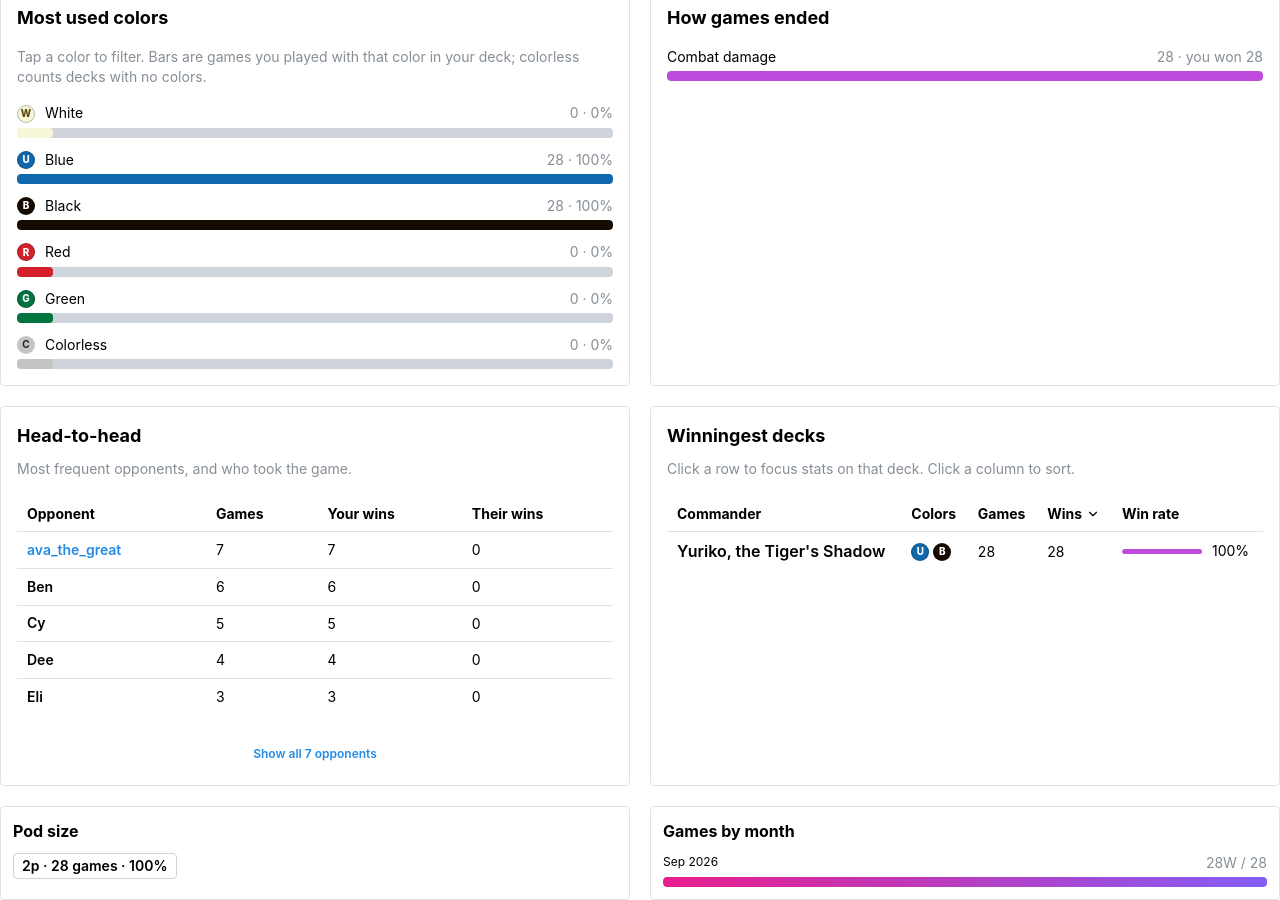
Test: StatsDashboard › shows the top 5 opponents, with the rest in a Show all modal
The image size is (1280, 900).
(page scrolled)
Expected: the text "Eli" is shown, [27,688,43,705]
Expected: the text "Fay" is not shown
Click the button "Show all 7 opponents".
click(315, 754)  # box [17,739,613,769]
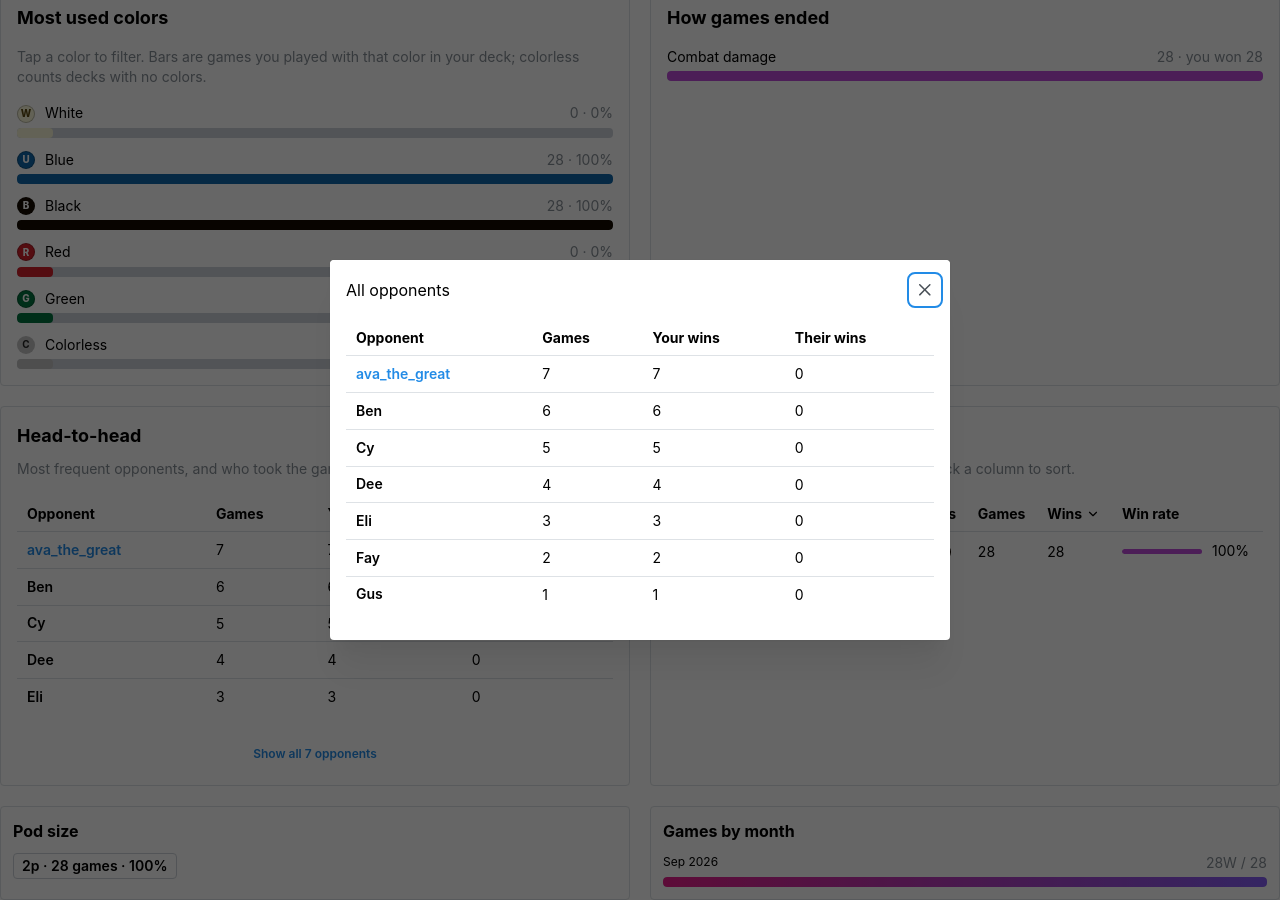
Expected: the text "Gus" is shown, [356,585,383,602]
